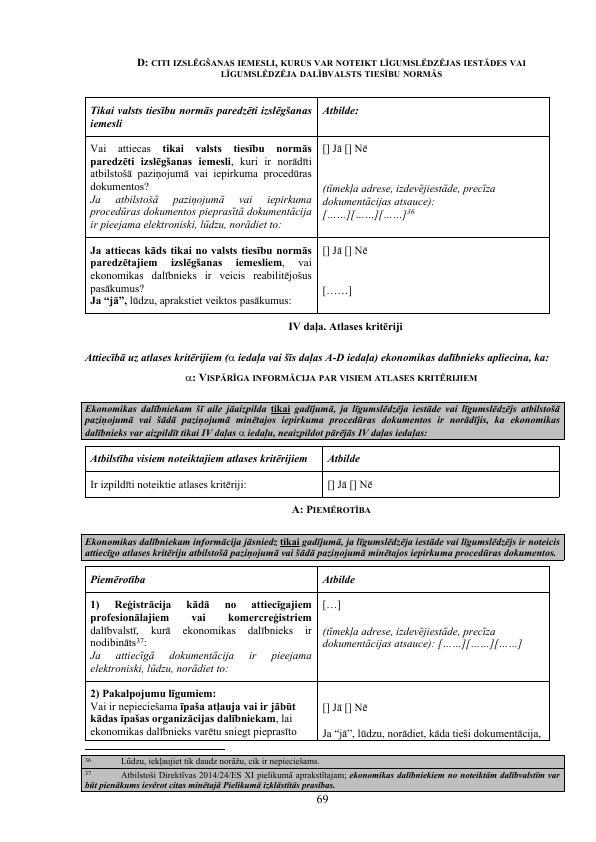table: (82, 94, 553, 318), (82, 564, 555, 743), (82, 444, 564, 499), (78, 751, 570, 796)
text: (83, 350, 559, 385), (82, 403, 563, 437), (131, 51, 535, 82), (82, 533, 564, 558), (285, 318, 408, 336), (290, 502, 373, 519)
